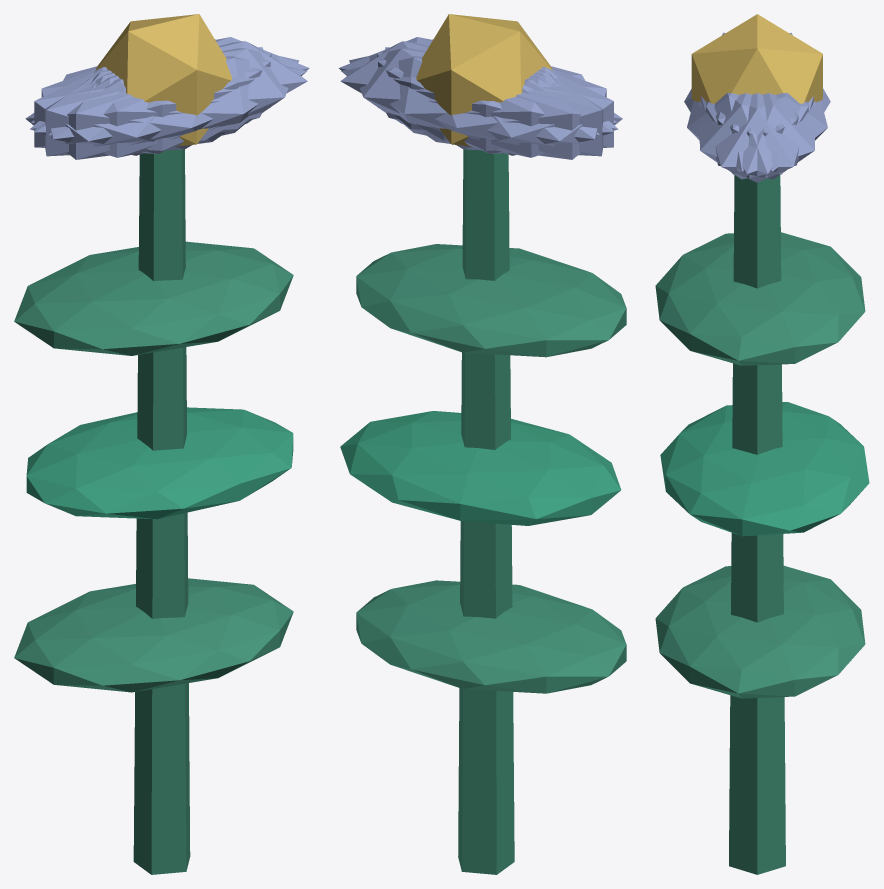
Rendered from parthenocissus-dalzielii.glb.
3 views of the same model, side by side, from view 1: azimuth 30°, elevation 25°; view 2: azimuth 150°, elevation 25°; view 3: azimuth 270°, elevation 25° (orthographic).
Parts seen in each view (by area): view 1: stem, leaf2, leaf0, leaf1, center, petal1, petal6, petal2, petal5, petal7, petal0, petal4 (+2 smaller); view 2: stem, leaf1, leaf2, leaf0, center, petal8, petal3, petal7, petal4, petal2, petal0, petal5 (+2 smaller); view 3: stem, leaf2, leaf1, leaf0, center, petal0, petal5, petal4, petal8, petal1.
Part boxes in pixels (<box>): stem: <box>133,149,190,874</box>; leaf2: <box>14,241,293,355</box>; leaf0: <box>14,578,293,692</box>; leaf1: <box>26,407,293,519</box>; center: <box>95,14,231,146</box>; petal1: <box>30,56,306,157</box>; petal6: <box>25,68,225,159</box>; petal2: <box>45,47,263,156</box>; petal5: <box>49,48,299,150</box>; petal7: <box>34,53,271,153</box>; petal0: <box>95,41,307,140</box>; petal4: <box>31,37,309,132</box>; stem: <box>458,149,514,874</box>; leaf1: <box>340,411,621,525</box>; leaf2: <box>356,244,626,357</box>; leaf0: <box>356,580,626,693</box>; center: <box>416,14,552,146</box>; petal8: <box>341,56,618,157</box>; petal3: <box>422,68,622,159</box>; petal7: <box>385,47,603,156</box>; petal4: <box>349,48,599,150</box>; petal2: <box>377,53,613,153</box>; petal0: <box>340,41,553,141</box>; petal5: <box>338,37,616,132</box>; stem: <box>729,175,785,874</box>; leaf2: <box>655,232,865,365</box>; leaf1: <box>660,402,869,536</box>; leaf0: <box>655,565,865,698</box>; center: <box>691,14,822,103</box>; petal0: <box>701,93,813,182</box>; petal5: <box>699,93,808,179</box>; petal4: <box>706,93,815,179</box>; petal8: <box>716,93,827,171</box>; petal1: <box>687,93,798,171</box>.
Size of the model in its own units: 0.1479 by 0.4275 by 0.0998.
